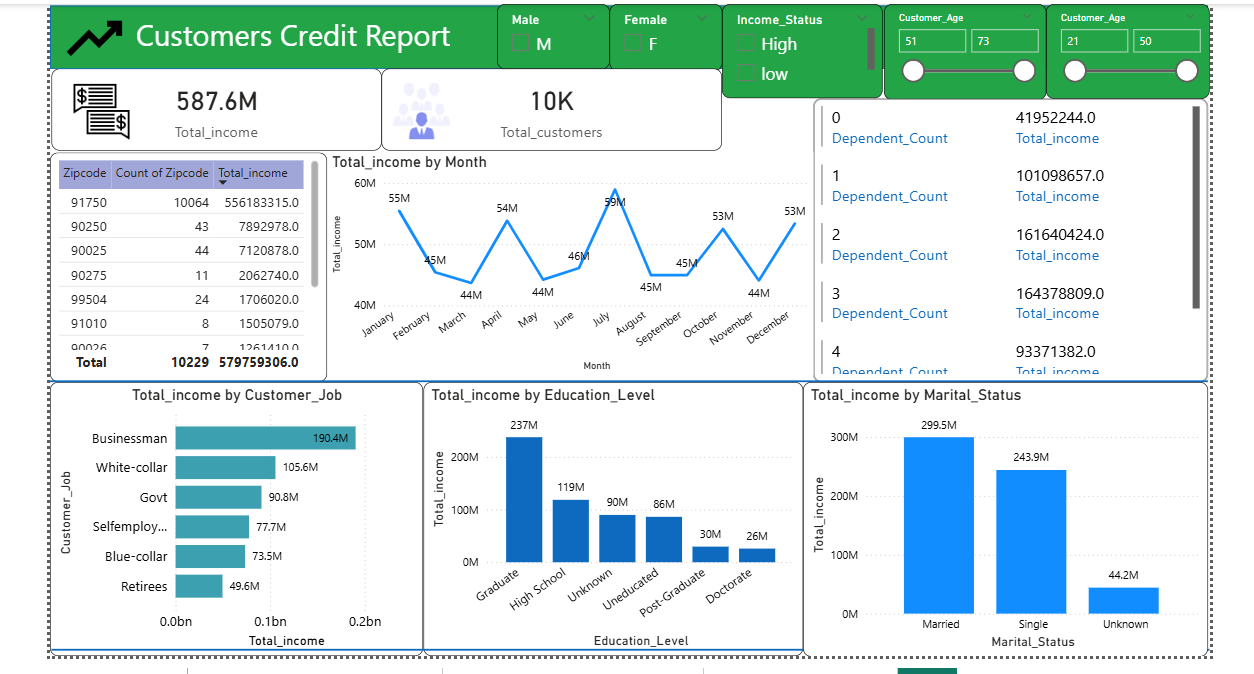

What the dashboard file says about the page in this screenshot:
{"tool":"powerbi","page":{"name":"Customer Credit Report","canvas":[1280,720],"ordinal":0},"visuals":[{"type":"card","fields":{"Values":["customer.Total_income"]},"box":[1.7,71.2,376,91.1],"z":0},{"type":"shape","box":[0,1.7,1278.8,71.2],"z":1000},{"type":"barChart","fields":{"Category":["customer.Customer_Job"],"Y":["customer.Total_income"]},"box":[0,462.2,412.5,258.4],"z":2000},{"type":"slicer","fields":{"Values":["customer.Gender"]},"box":[762,0,124.2,72.9],"z":3000},{"type":"slicer","fields":{"Values":["customer.Gender"]},"box":[637.7,0,124.2,71.2],"z":4000},{"type":"slicer","fields":{"Values":["customer.Customer_Age"]},"box":[1065.1,0,215.3,72.9],"z":5000},{"type":"slicer","fields":{"Values":["customer.Income_Status"]},"box":[886.2,0,178.9,72.9],"z":7000},{"type":"clusteredColumnChart","fields":{"Category":["customer.Education_Level"],"Y":["customer.Total_income"]},"box":[412.5,462.2,419.1,258.4],"z":8000},{"type":"multiRowCard","fields":{"Values":["customer.Dependent_Count","customer.Total_income"]},"box":[929.3,162.3,349.5,299.8],"z":9000},{"type":"shape","box":[0,404.2,1278.8,24.8],"z":10000},{"type":"shape","box":[1.7,705.7,1278.8,14.9],"z":11000},{"type":"card","fields":{"Values":["CreditCard.Total_customers"]},"box":[377.7,71.2,263.4,91.1],"z":12000},{"type":"pieChart","fields":{"Category":["customer.Gender"],"Y":["customer.Total_income"]},"box":[0,162.3,463.8,299.8],"z":13000},{"type":"clusteredColumnChart","fields":{"Y":["customer.Total_income"],"Category":["customer.Marital_Status"]},"box":[831.6,462.2,447.2,258.4],"z":14000},{"type":"card","fields":{"Values":["CreditCard.count_transaction"]},"box":[641.1,71.2,288.2,91.1],"z":15000},{"type":"card","fields":{"Values":["Sum(CreditCard.Credit_Limit)"]},"box":[929.3,72.9,349.5,91.1],"z":16000},{"type":"columnChart","fields":{"Category":["customer.age_group"],"Y":["customer.Total_income"]},"box":[463.8,164,465.5,298.2],"z":17000}]}

Visuals, with their boxes on the page's 1280x720 design canvas (x1, y1, x2, y2). These are canvas units, not pixel positions in the 1254x674 screenshot, which may show the page scaled, cropped or inside an application window:
card - customer.Total_income: {"x1": 2, "y1": 71, "x2": 378, "y2": 162}
shape: {"x1": 0, "y1": 2, "x2": 1279, "y2": 73}
barChart - customer.Customer_Job x customer.Total_income: {"x1": 0, "y1": 462, "x2": 412, "y2": 721}
slicer - customer.Gender: {"x1": 762, "y1": 0, "x2": 886, "y2": 73}
slicer - customer.Gender: {"x1": 638, "y1": 0, "x2": 762, "y2": 71}
slicer - customer.Customer_Age: {"x1": 1065, "y1": 0, "x2": 1280, "y2": 73}
slicer - customer.Income_Status: {"x1": 886, "y1": 0, "x2": 1065, "y2": 73}
clusteredColumnChart - customer.Education_Level x customer.Total_income: {"x1": 412, "y1": 462, "x2": 832, "y2": 721}
multiRowCard - customer.Dependent_Count x customer.Total_income: {"x1": 929, "y1": 162, "x2": 1279, "y2": 462}
shape: {"x1": 0, "y1": 404, "x2": 1279, "y2": 429}
shape: {"x1": 2, "y1": 706, "x2": 1280, "y2": 721}
card - CreditCard.Total_customers: {"x1": 378, "y1": 71, "x2": 641, "y2": 162}
pieChart - customer.Gender x customer.Total_income: {"x1": 0, "y1": 162, "x2": 464, "y2": 462}
clusteredColumnChart - customer.Total_income x customer.Marital_Status: {"x1": 832, "y1": 462, "x2": 1279, "y2": 721}
card - CreditCard.count_transaction: {"x1": 641, "y1": 71, "x2": 929, "y2": 162}
card - Sum(CreditCard.Credit_Limit): {"x1": 929, "y1": 73, "x2": 1279, "y2": 164}
columnChart - customer.age_group x customer.Total_income: {"x1": 464, "y1": 164, "x2": 929, "y2": 462}
